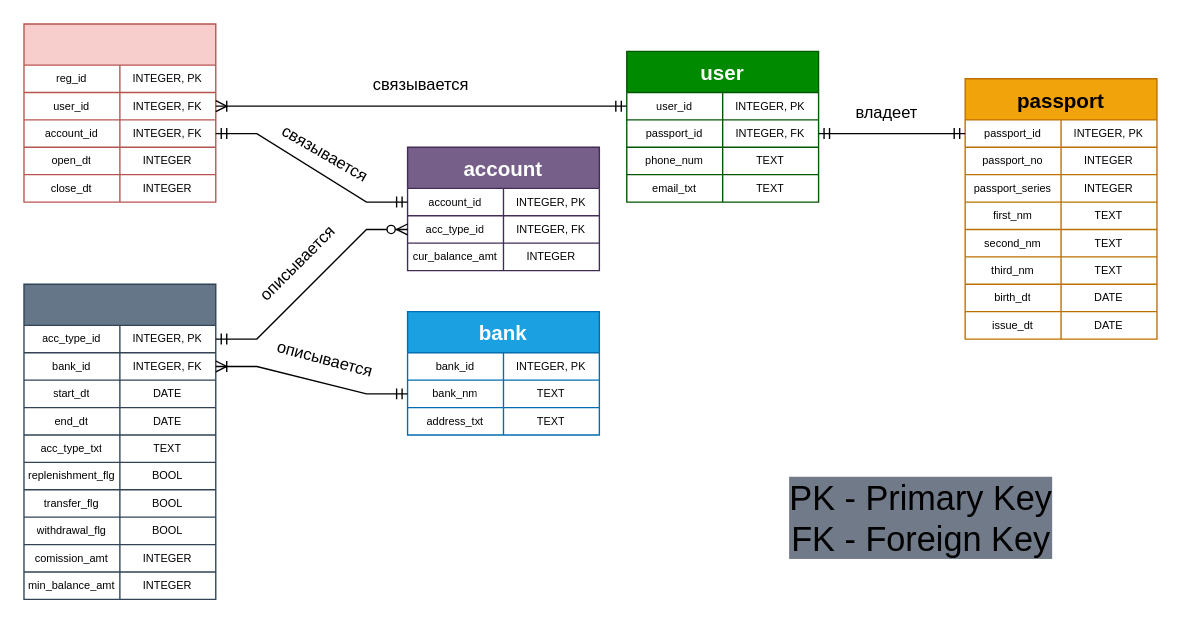
Some shapes in this 1181 by 623 pixel diagram are drawn without their labels. Each missing label, with the box of its shape:
account_type: (23, 283, 216, 599)
registry: (23, 23, 216, 202)
